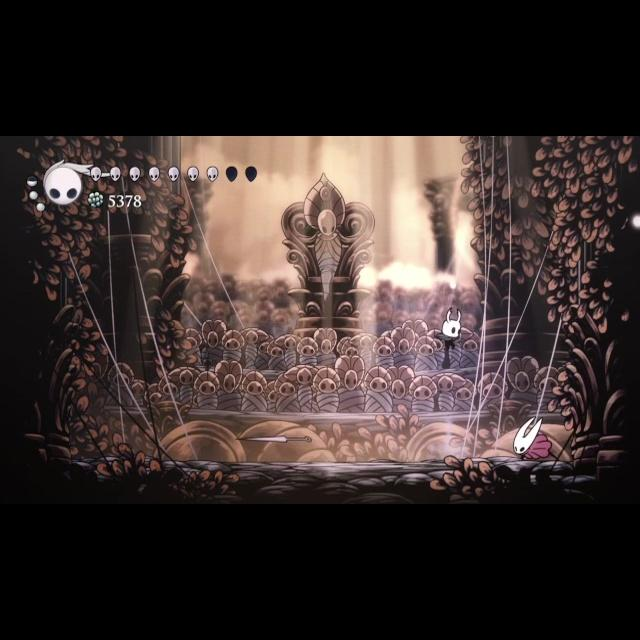Enemy: (508, 409, 566, 466)
NailAttack: (230, 428, 322, 448)
Player: (434, 306, 466, 352)
